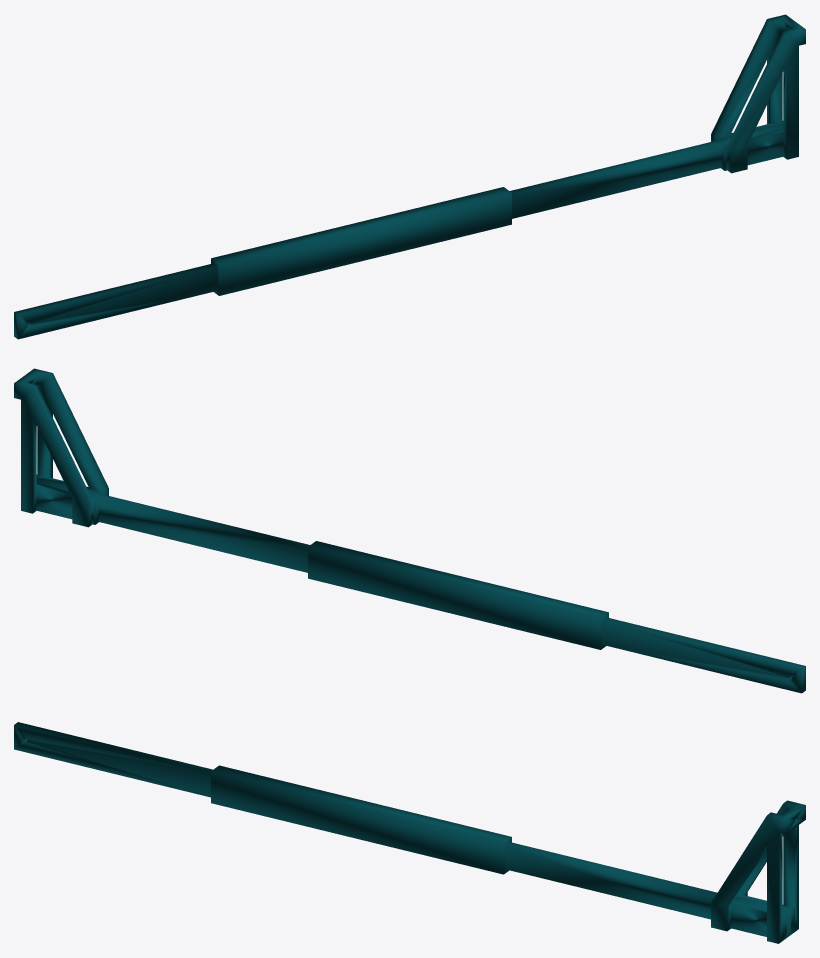
File: arm_1.dae
The picture shows the model from 3 angles, top to bottom: view 1: azimuth 30°, elevation 25°; view 2: azimuth 150°, elevation 25°; view 3: azimuth 330°, elevation 25°; orthographic projection.
Visible parts, largest first — view 1: arm_4; view 2: arm_4; view 3: arm_4.
Boxes of the visible parts, x1,y1,x2,y2 form: arm_4: (14,14,805,339); arm_4: (14,368,805,693); arm_4: (14,722,805,943).
Bounding box in the file's own units: 0.666 × 0.03 × 0.1057.
